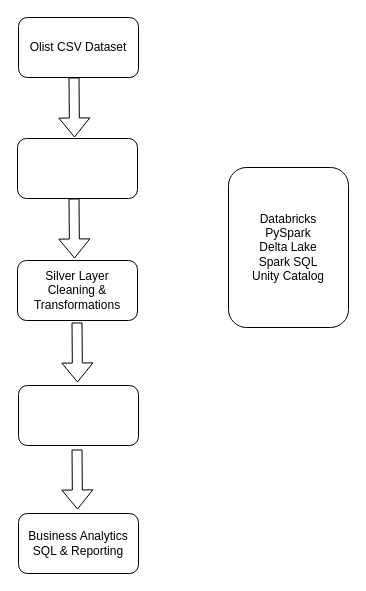
Some shapes in this 366 by 591 pixel diagram are drawn without their labels. The centre of each missing label's shape, as x and y in pixels:
Bronze Layer Raw Delta Tables: (x=77, y=168)
Gold Layer Star Schema & KPIs: (x=78, y=415)
